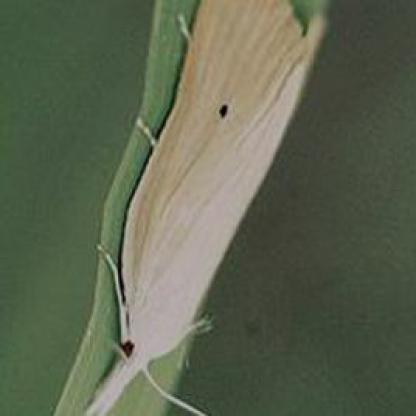stem-borer: (84, 0, 326, 413)
